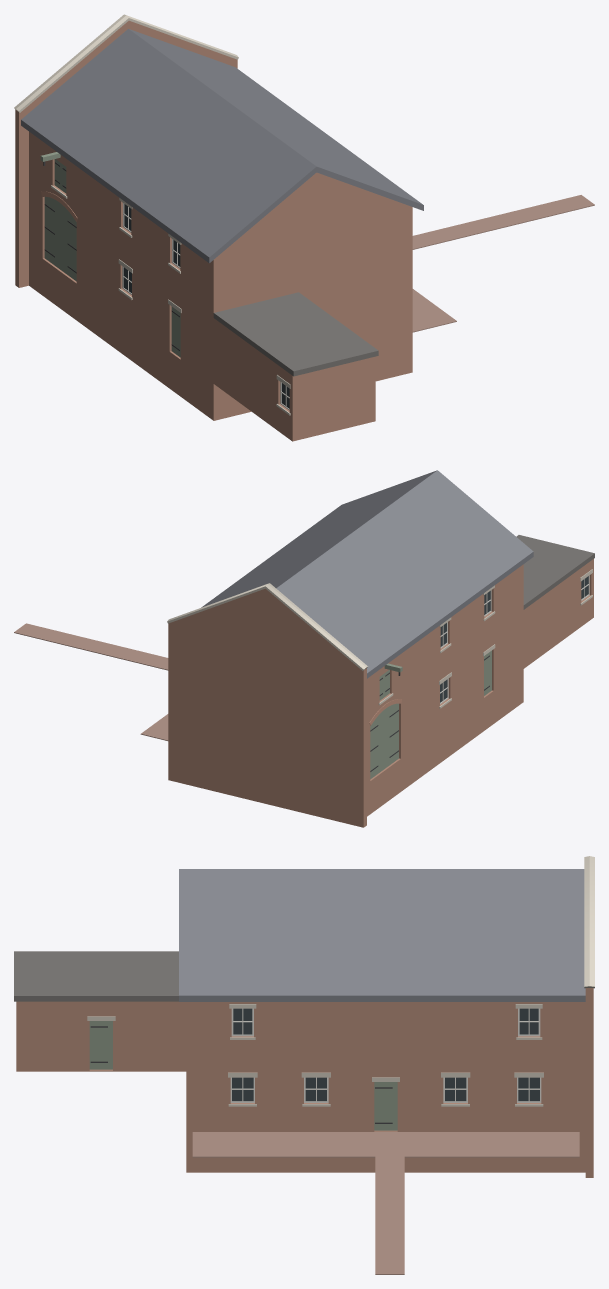
The model's file is walker_house_1720_prairie_coach_house__as_standing_1904.glb.
3 renders of one model, top to bottom at view 1: azimuth 30°, elevation 25°; view 2: azimuth 150°, elevation 25°; view 3: azimuth 270°, elevation 25°, orthographic. The views are drawn at different scales.
Visible parts, largest first — view 1: walker_house_1720_prairie_coach_house__as_standing_1904; view 2: walker_house_1720_prairie_coach_house__as_standing_1904; view 3: walker_house_1720_prairie_coach_house__as_standing_1904.
Boxes of the visible parts, box(x1,y1,x2,y2) form: walker_house_1720_prairie_coach_house__as_standing_1904: box(14, 14, 594, 441); walker_house_1720_prairie_coach_house__as_standing_1904: box(14, 470, 594, 827); walker_house_1720_prairie_coach_house__as_standing_1904: box(14, 856, 594, 1274).
Bounding box in the file's own units: 24.73 × 11.9 × 23.7.
